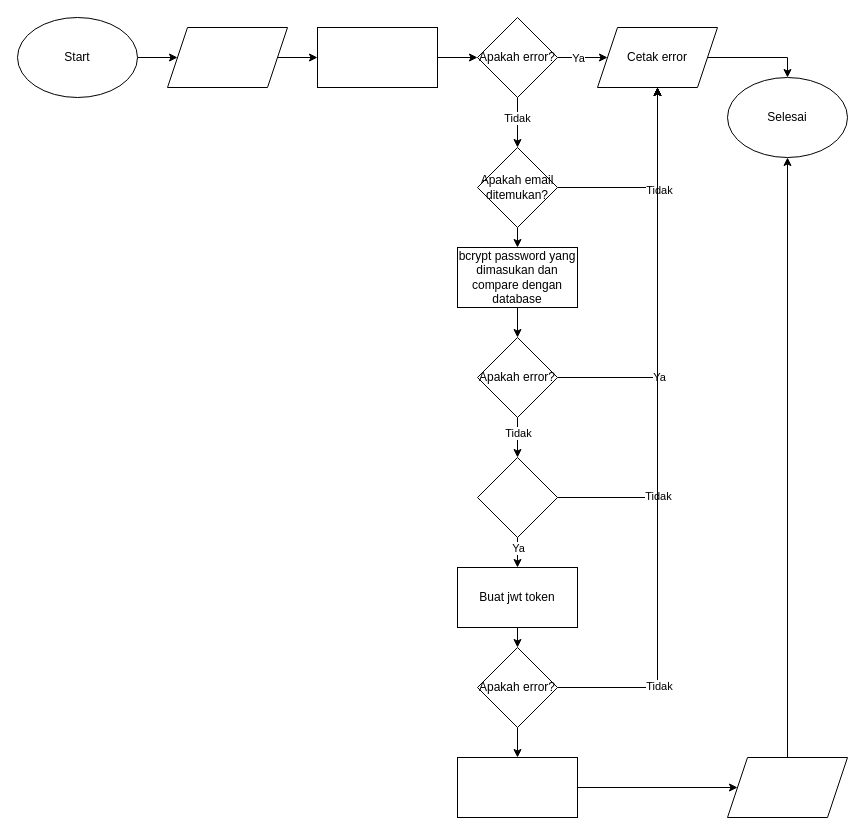
The diagram is 865 pixels wide and 835 high, and some of its shapes have lost their labels. The shapes that lost their labels are listed below. From the top down, each one's box as (x1, y1, x2, y2) in pixels, then its label:
(166, 26, 288, 88): Input email dan password
(316, 26, 438, 88): Jalankan query untuk mengambil email
(476, 456, 558, 538): Apakah password sama?
(456, 756, 578, 818): Masukan token ke whitelist
(726, 756, 848, 818): Cetak token dan response
